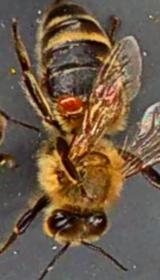varroa_mite: (43, 86, 90, 118)
